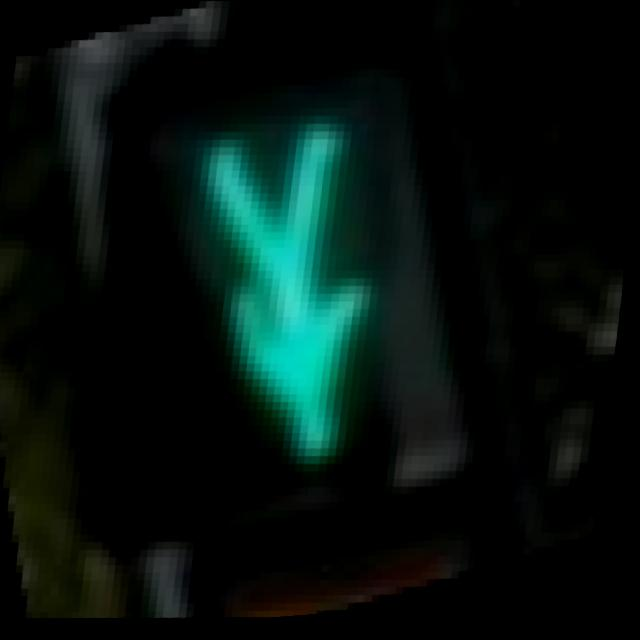green_light: (90, 51, 490, 574)
